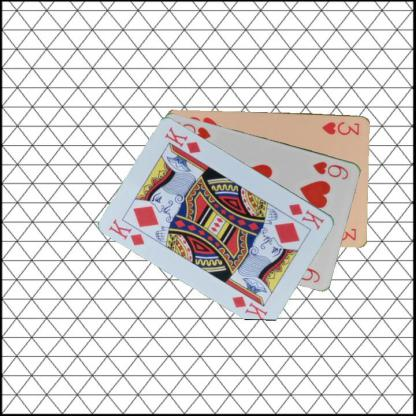3h: (320, 119, 360, 136)
6h: (310, 158, 350, 181)
Kd: (286, 201, 326, 232), (106, 217, 146, 247)
